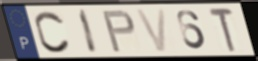6: (176, 9, 208, 51)
C: (34, 9, 73, 55)
I: (77, 8, 101, 55)
P: (100, 8, 137, 54)
T: (206, 6, 238, 53)
V: (134, 8, 169, 54)
